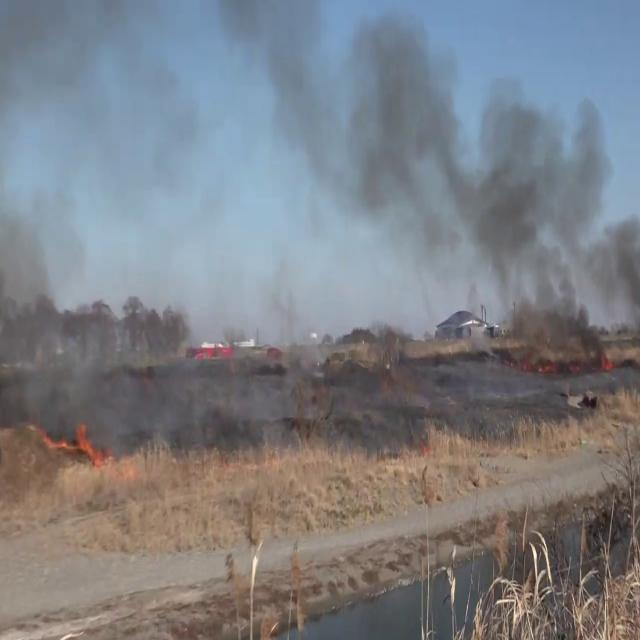Smoke: (322, 18, 640, 358), (0, 0, 280, 324)
